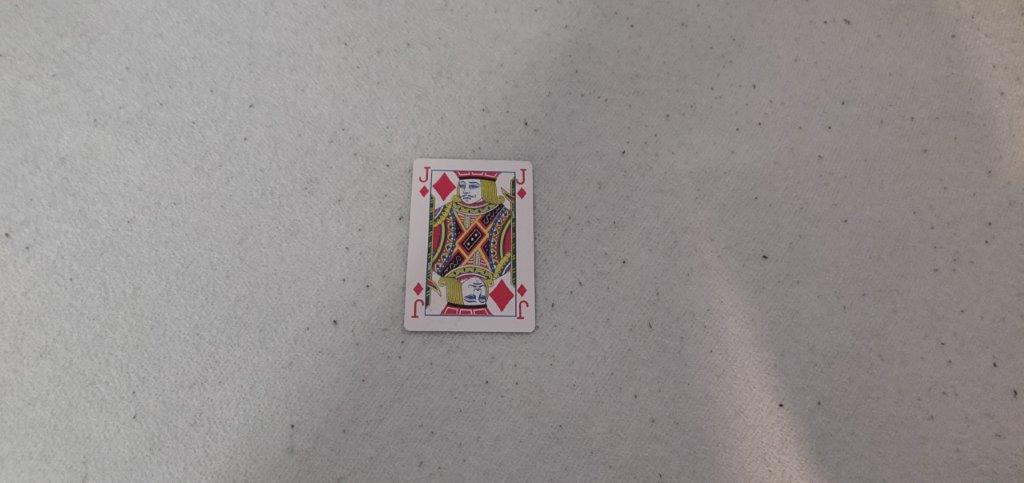JD: (415, 162, 433, 199), (512, 164, 529, 201)
